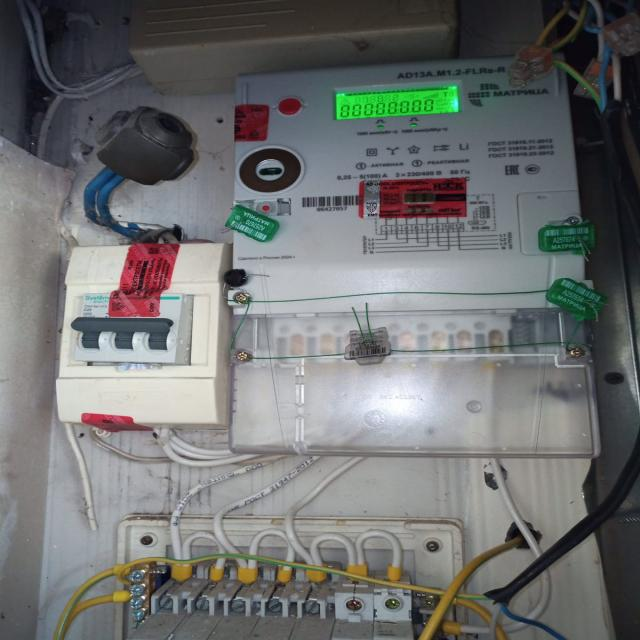Display: (336, 83, 464, 124)
meter_matrica: (232, 54, 592, 319)
meter_number: (300, 193, 365, 209)
seal_elso: (340, 326, 393, 369)
seal_imp: (355, 174, 473, 221)
